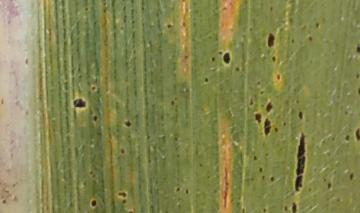tarspot: (294, 127, 307, 195), (70, 95, 90, 110), (264, 29, 277, 51), (262, 118, 273, 136), (87, 195, 99, 210), (222, 48, 231, 68), (263, 99, 275, 112), (114, 190, 131, 199), (289, 199, 299, 213), (347, 170, 357, 184), (296, 108, 305, 123), (232, 62, 243, 74), (208, 52, 218, 65), (123, 119, 134, 130), (200, 75, 211, 86), (91, 112, 99, 126), (268, 172, 276, 186), (165, 20, 175, 31), (253, 111, 262, 123), (257, 163, 266, 175), (324, 179, 333, 191), (118, 145, 127, 157), (250, 152, 259, 163), (343, 132, 351, 144), (183, 186, 191, 198), (89, 83, 98, 93), (355, 123, 360, 141), (174, 184, 182, 195), (354, 41, 360, 55), (307, 33, 314, 44), (275, 72, 282, 83), (269, 54, 277, 63), (168, 99, 177, 107)
